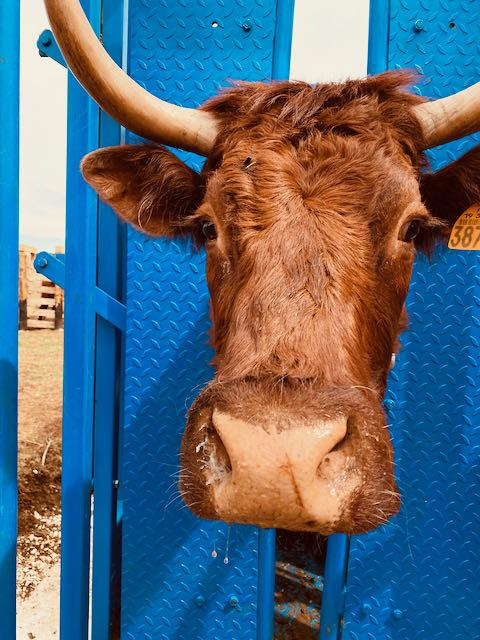muzzles: (170, 397, 406, 542)
